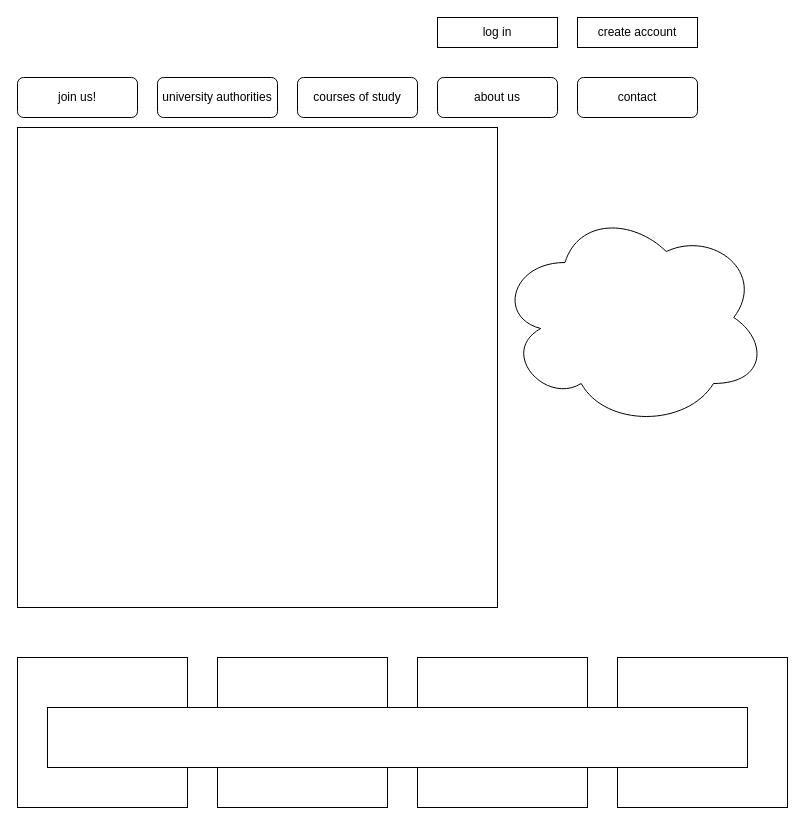
The diagram is 805 pixels wide and 825 high, and some of its shapes have lost their labels. The shapes that lost their labels are listed below. From the top down, each one's centre as x and y in pixels, then its label:
At (632,317): "funky motivational quote".
At (257,367): "Super Art of our University".
At (397,737): "more pictures of our staff members and university buildings".
